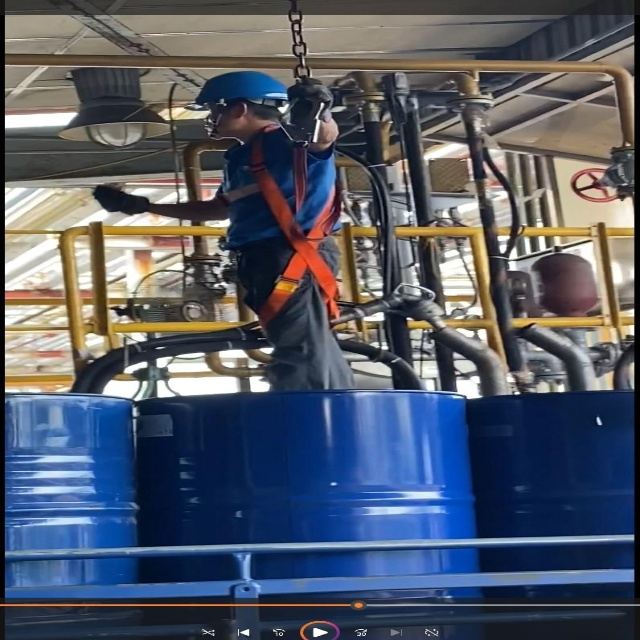Arnes_seguridad: (236, 129, 348, 339)
